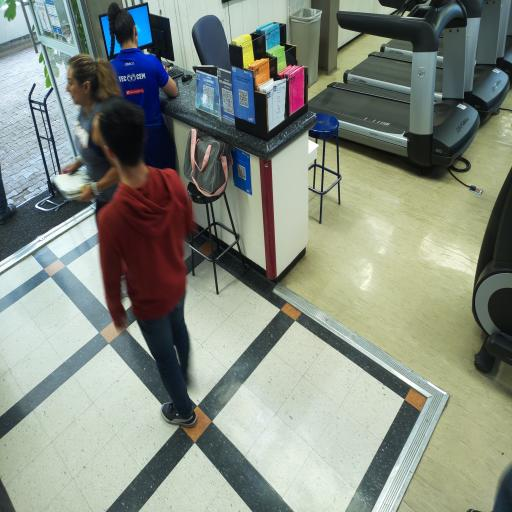person: (98, 99, 196, 426), (108, 3, 177, 168), (62, 54, 120, 215), (0, 169, 16, 224), (493, 466, 511, 511)
